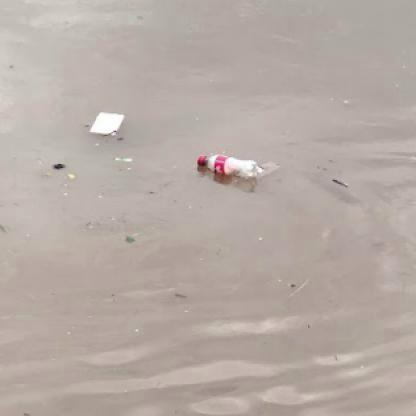Plastic: (195, 150, 263, 185)
Trash: (87, 109, 128, 140)
